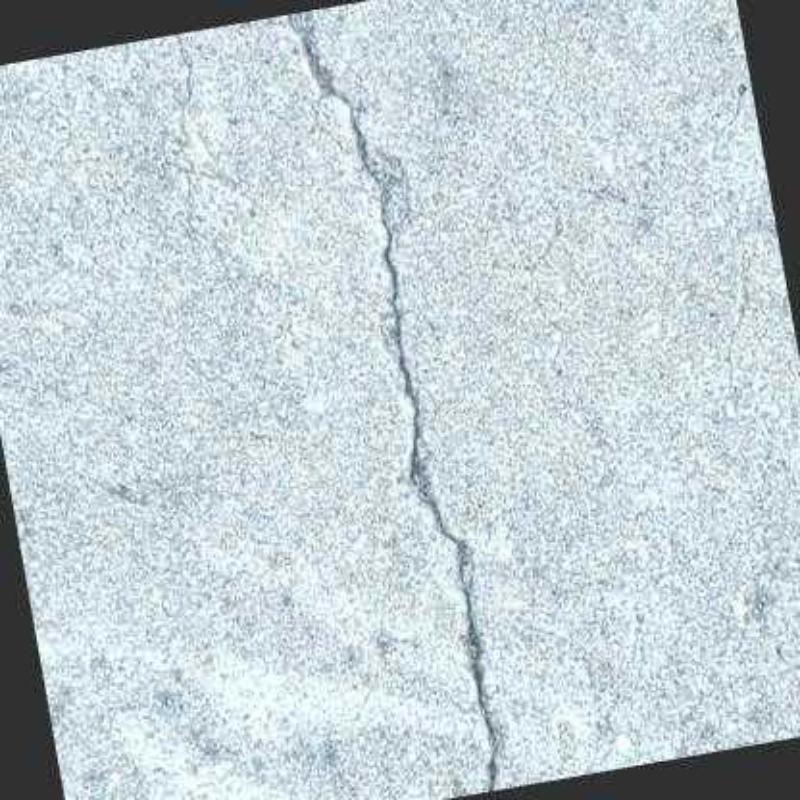crack: (281, 7, 503, 792)
